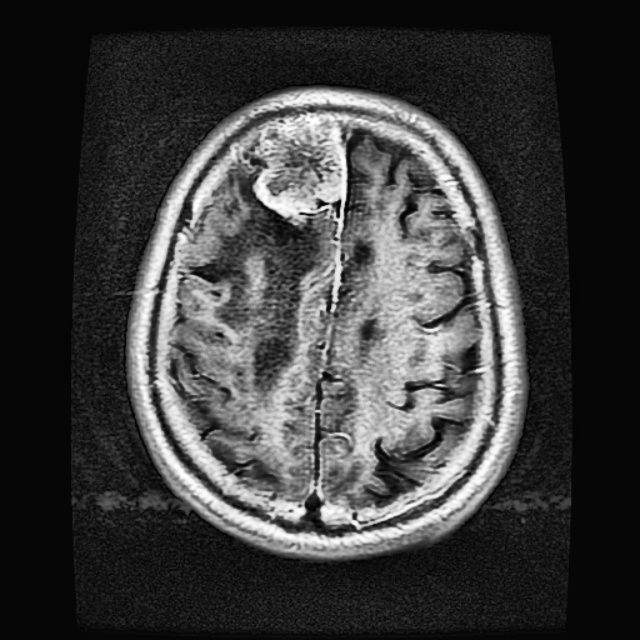Pituitary: (250, 122, 344, 223)
